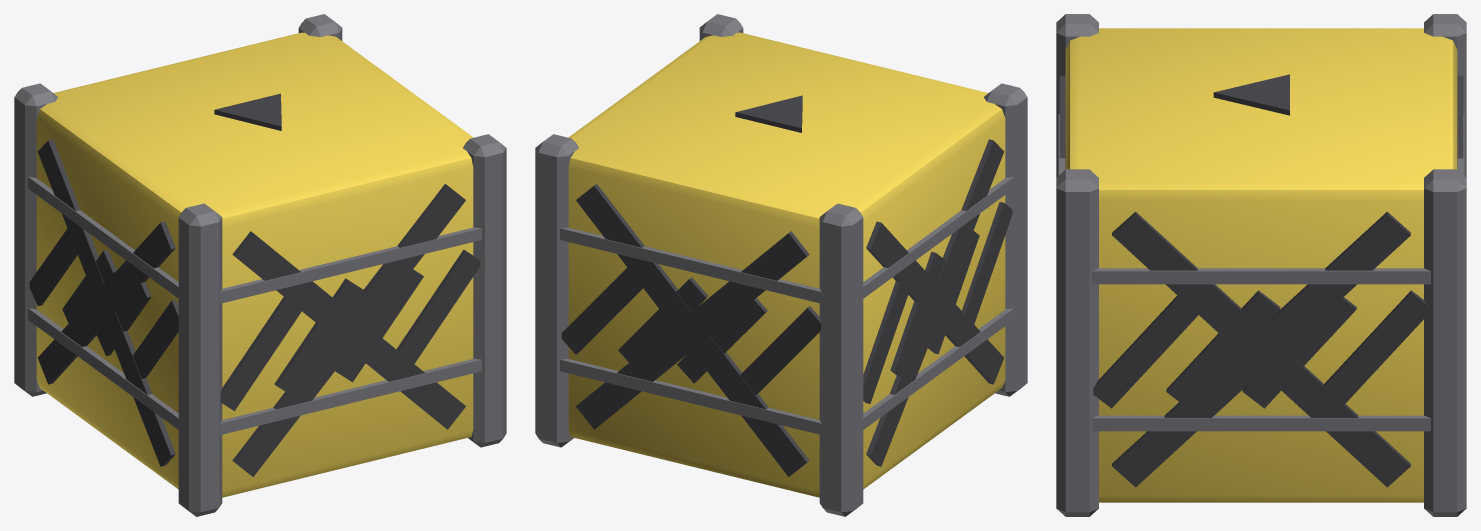
The model's file is crate_factory.glb.
3 views of the same model, side by side, from view 1: azimuth 30°, elevation 25°; view 2: azimuth 150°, elevation 25°; view 3: azimuth 270°, elevation 25° (orthographic). The views are drawn at different scales.
Visible parts, largest first — view 1: crate_0, crate_1; view 2: crate_0, crate_1; view 3: crate_0, crate_1.
Part boxes in pixels (x1,y1,x2,y2): crate_0: (14, 14, 506, 516); crate_1: (37, 139, 465, 476); crate_0: (535, 14, 1027, 516); crate_1: (576, 139, 1004, 476); crate_0: (1056, 14, 1466, 516); crate_1: (1059, 75, 1463, 487).
Size of the model in its own units: 0.86 by 0.79 by 0.86.
